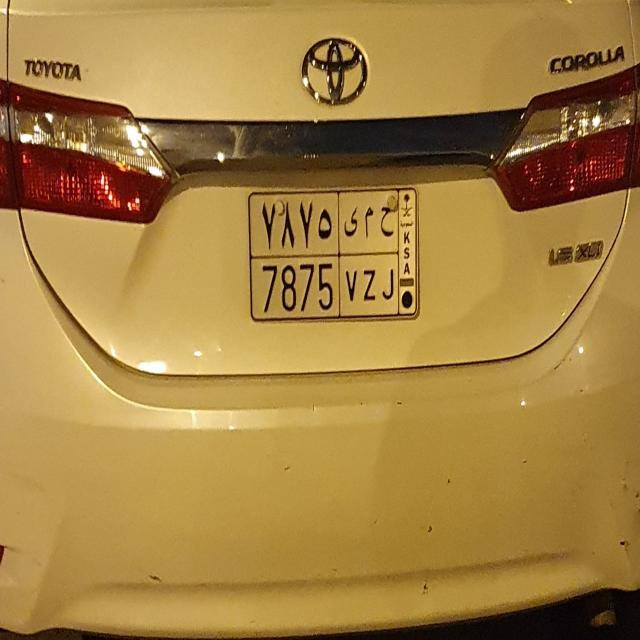license_plate: (245, 184, 422, 325)
